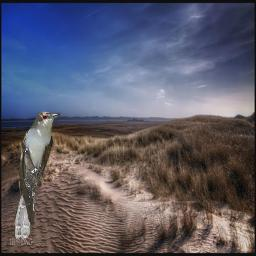Cuckoo: (13, 110, 61, 239)
